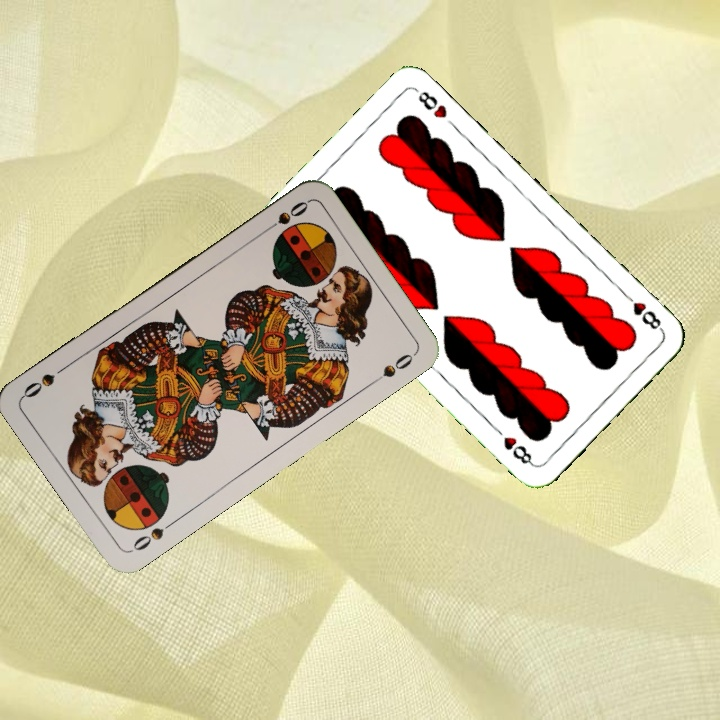H8: (619, 288, 666, 334)
SO: (258, 197, 311, 236), (127, 516, 179, 554)
